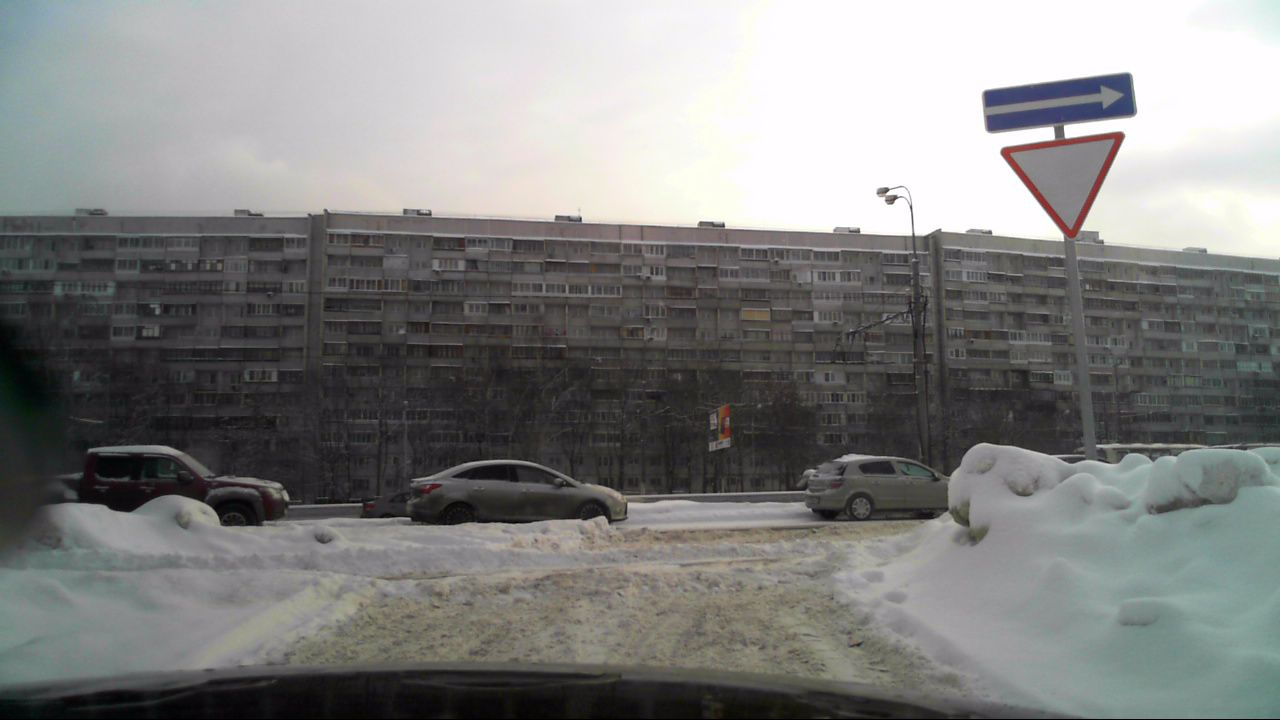One-Way Traffic: (983, 74, 1133, 132)
